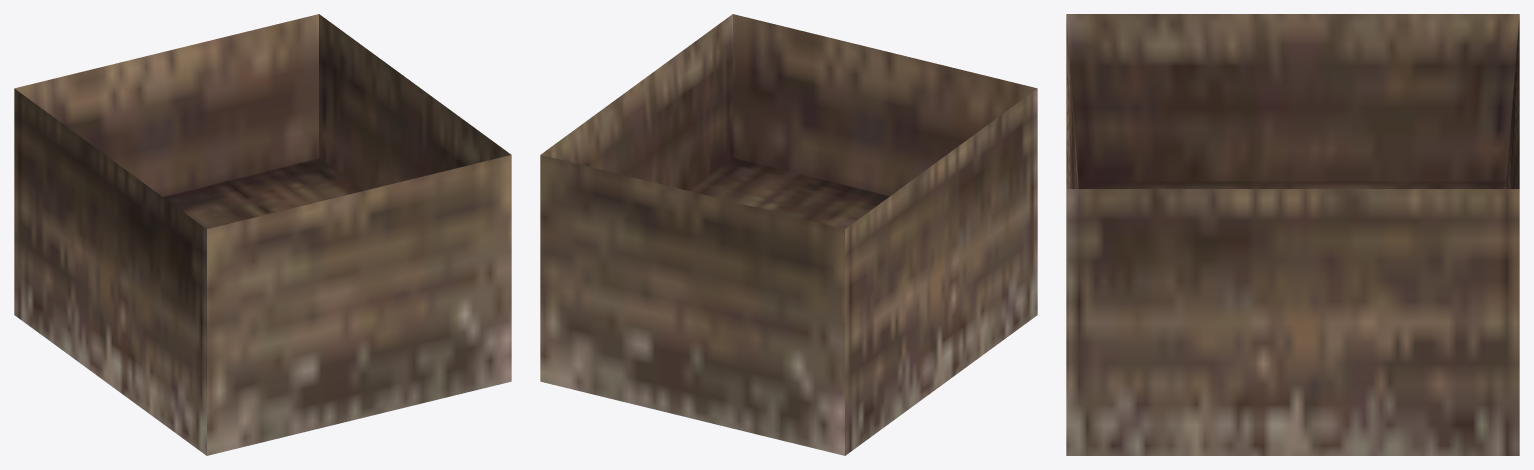
File: OZ_20_wv_T04wcase03A.glb
3 views of the same model, side by side, from view 1: azimuth 30°, elevation 25°; view 2: azimuth 150°, elevation 25°; view 3: azimuth 270°, elevation 25° (orthographic). The views are drawn at different scales.
Visible parts, largest first — view 1: OM_20_wv_T04wcase03A; view 2: OM_20_wv_T04wcase03A; view 3: OM_20_wv_T04wcase03A.
Boxes of the visible parts, left/top/right/bottom form: OM_20_wv_T04wcase03A: left=14, top=14, right=511, bottom=455; OM_20_wv_T04wcase03A: left=540, top=14, right=1037, bottom=455; OM_20_wv_T04wcase03A: left=1066, top=14, right=1519, bottom=455.
Size of the model in its own units: 0.1172 by 0.0833 by 0.1282.
1 material, 1 textured.
